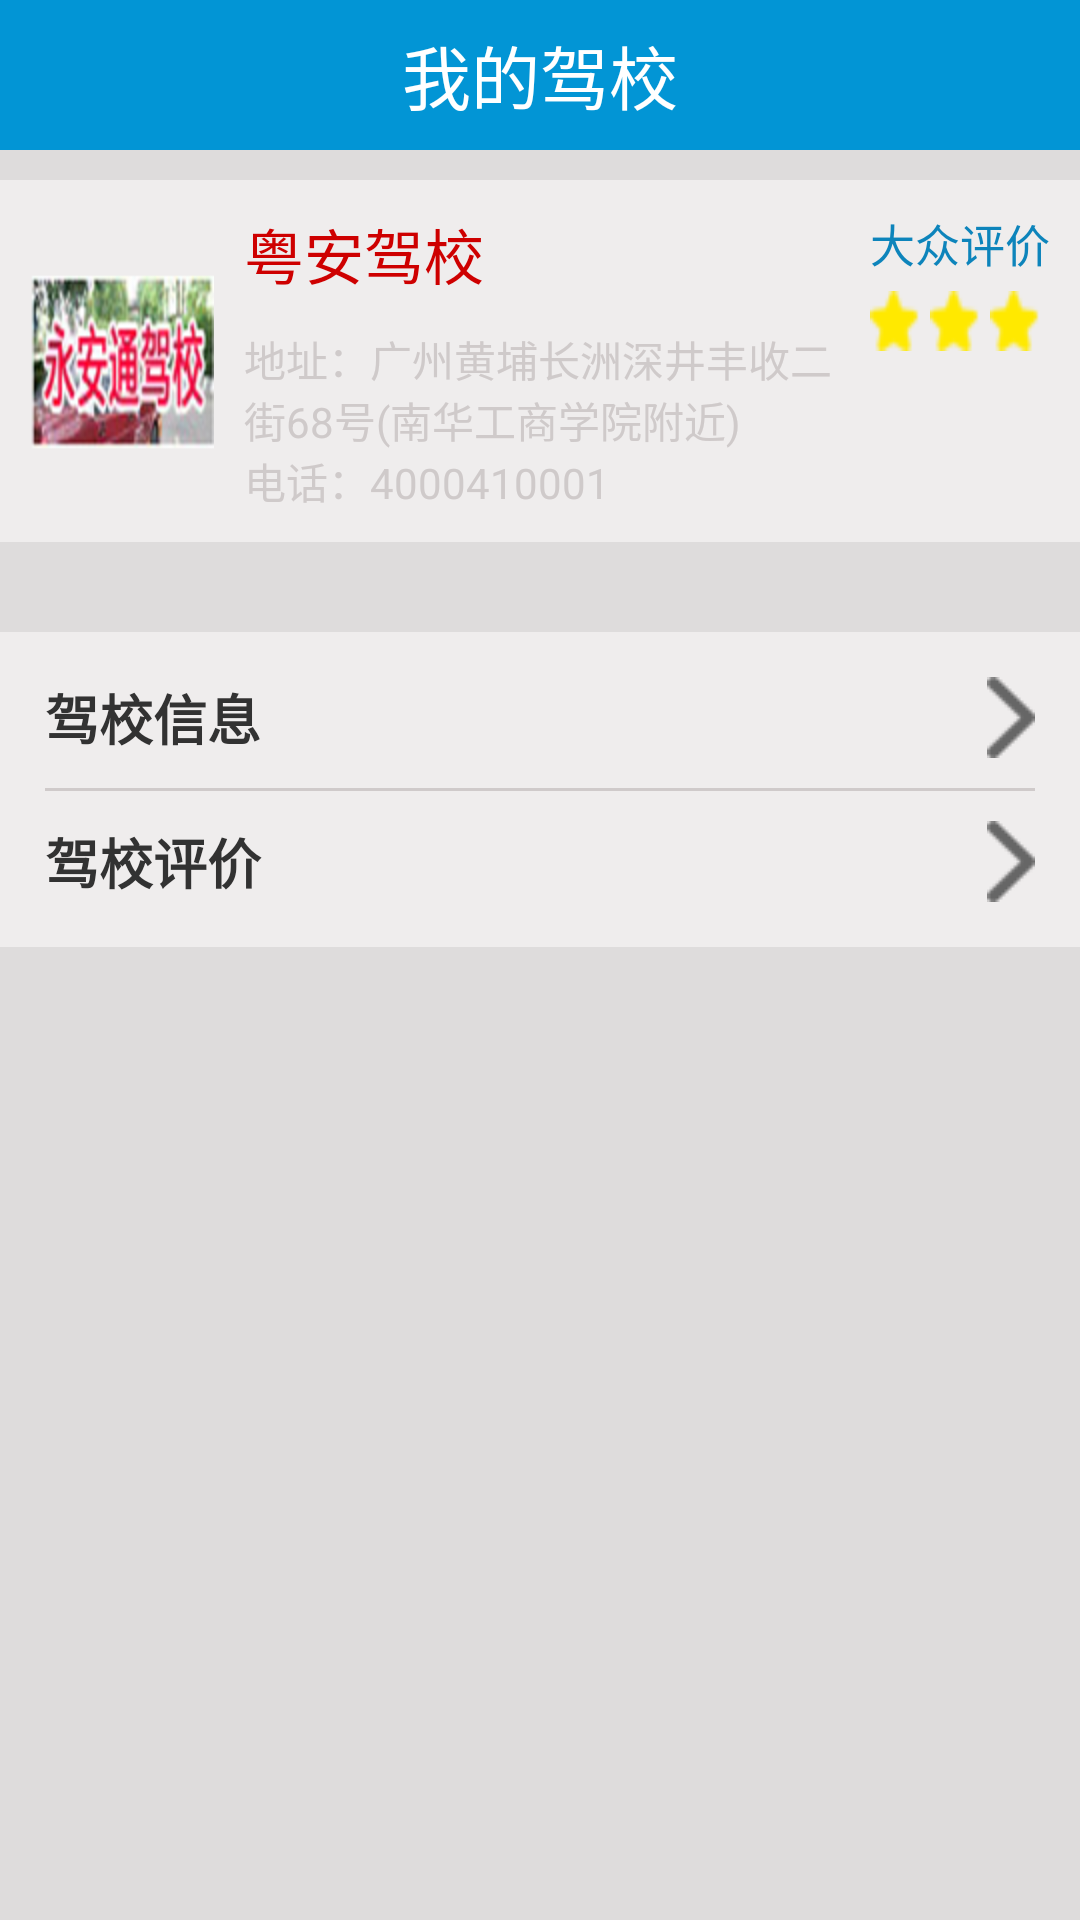

Icon click points for this 1080*1920 phone screenshot, format point (x, y):
arrow right: point (1011, 717), point (1011, 861)
remark star: point (894, 321), point (954, 321), point (1014, 321)
